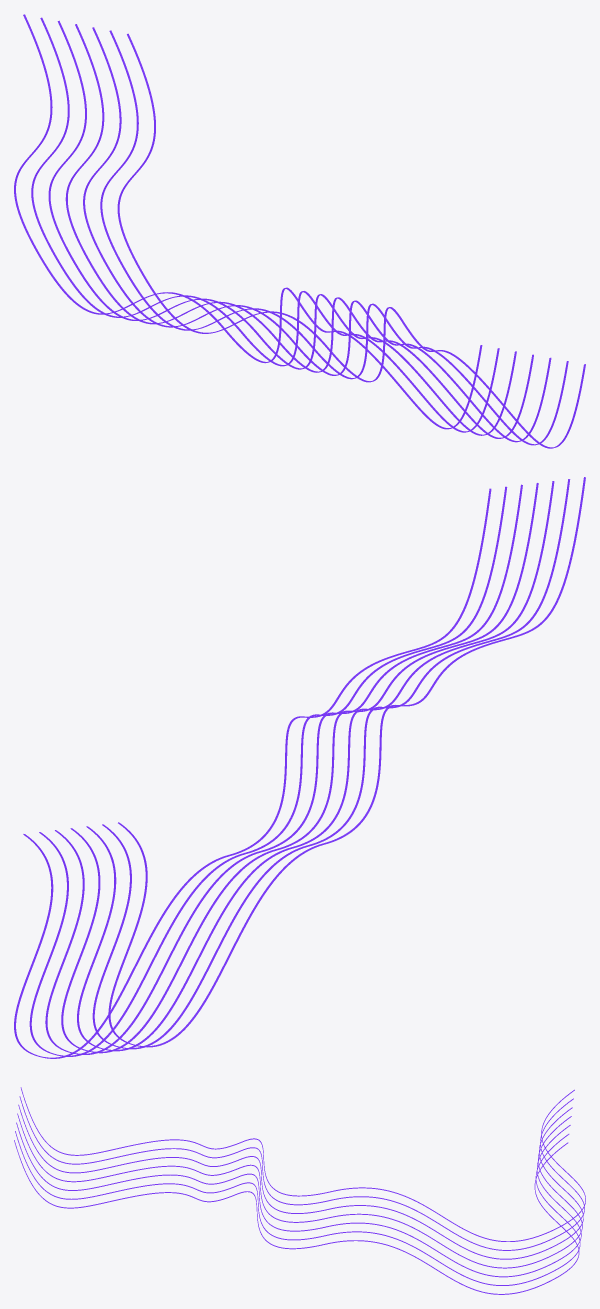
The picture shows the model from 3 angles, top to bottom: view 1: azimuth 30°, elevation 25°; view 2: azimuth 150°, elevation 25°; view 3: azimuth 270°, elevation 25°; orthographic projection. The views are drawn at different scales.
Parts seen in each view (by area): view 1: BezierCurve; view 2: BezierCurve; view 3: BezierCurve.
Boxes of the visible parts, left/top/right/bottom form: BezierCurve: left=14, top=14, right=585, bottom=448; BezierCurve: left=14, top=477, right=585, bottom=1058; BezierCurve: left=14, top=1087, right=585, bottom=1294.
Bounding box in the file's own units: 1.26 × 3.56 × 10.35.
